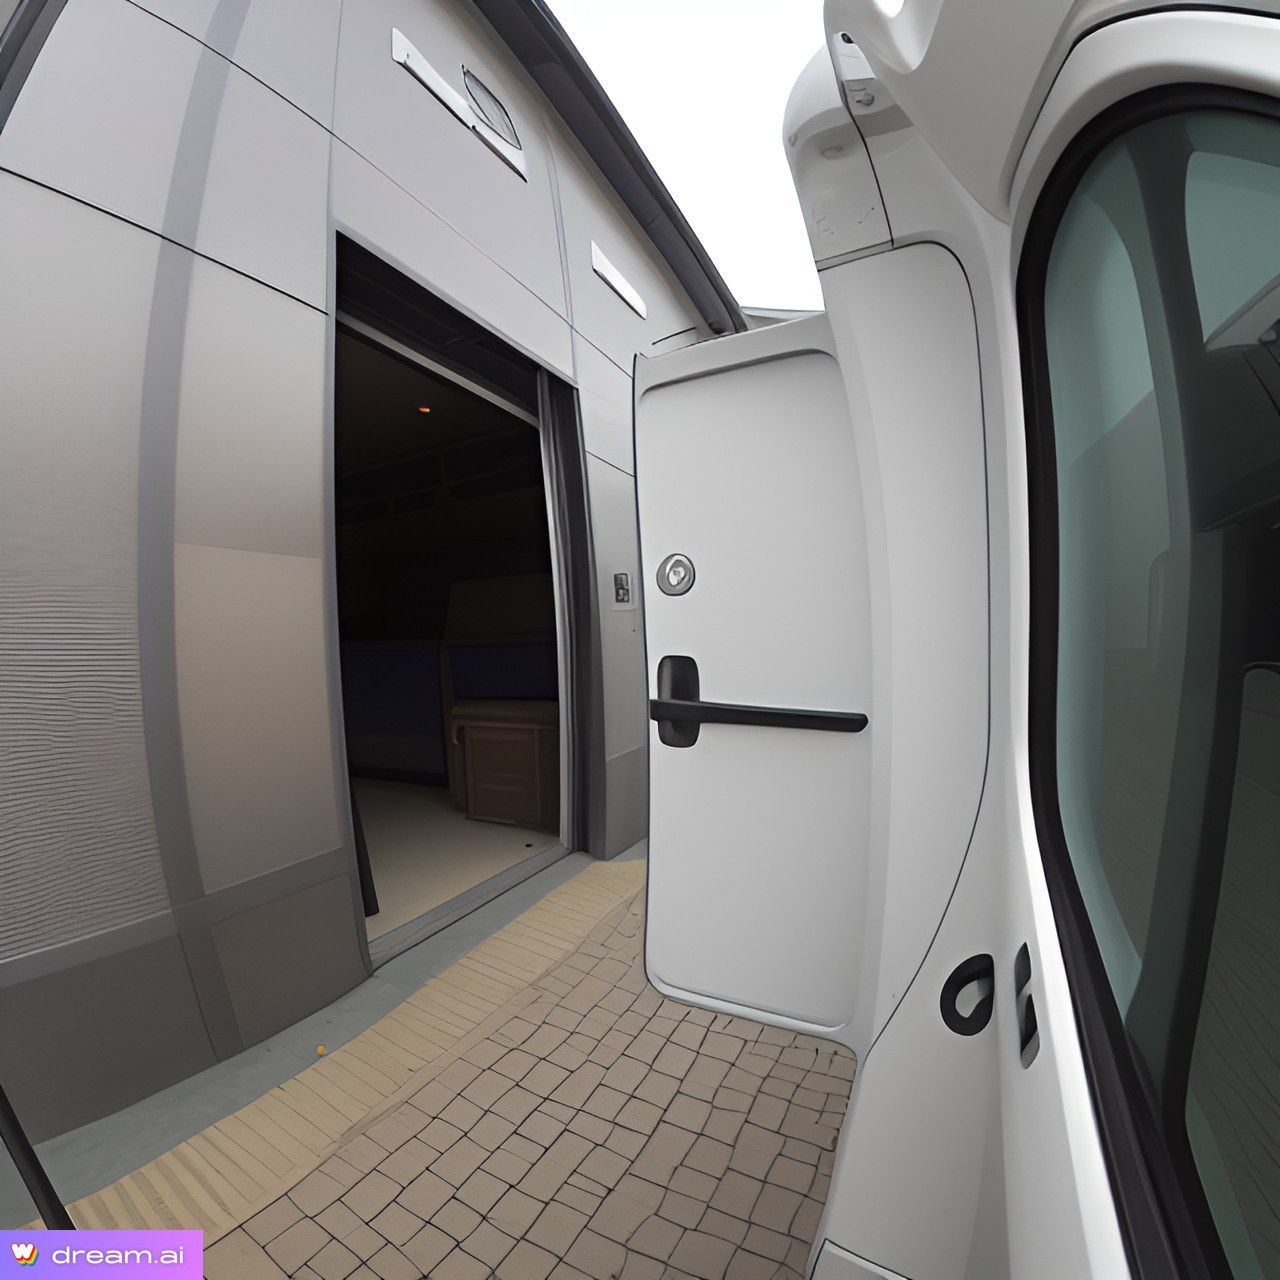door_front: (613, 300, 915, 1069)
